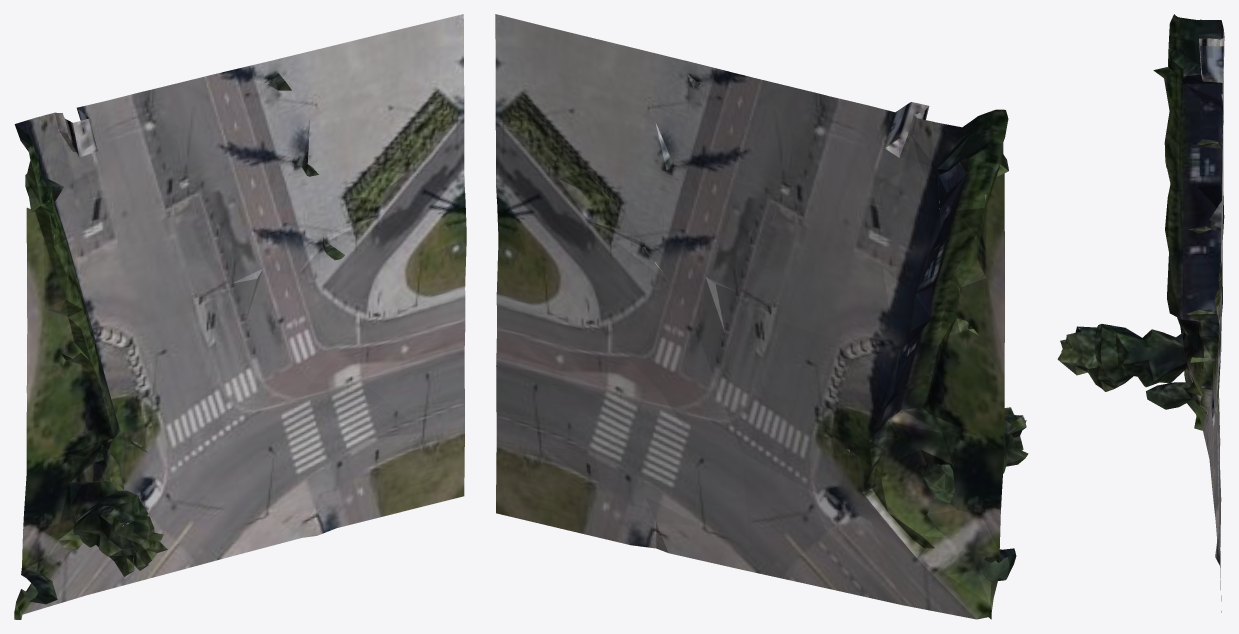
The model's file is Tile_+032_+023_L18_00010.obj.
The picture shows the model from 3 angles, left to right: view 1: azimuth 30°, elevation 25°; view 2: azimuth 150°, elevation 25°; view 3: azimuth 270°, elevation 25°; orthographic projection. The views are drawn at different scales.
Bounding box in the file's own units: 63.5 × 63 × 23.15.
1 material, 1 textured.
